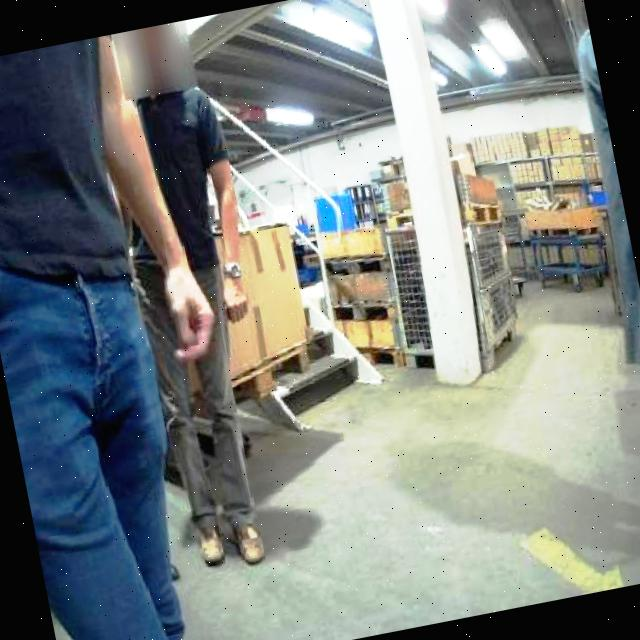ground: (5, 253, 640, 640)
pallet: (142, 109, 640, 458), (286, 144, 532, 403), (153, 208, 373, 456), (454, 112, 623, 308), (377, 202, 530, 386), (199, 218, 318, 385), (292, 217, 410, 381), (516, 194, 617, 300)
